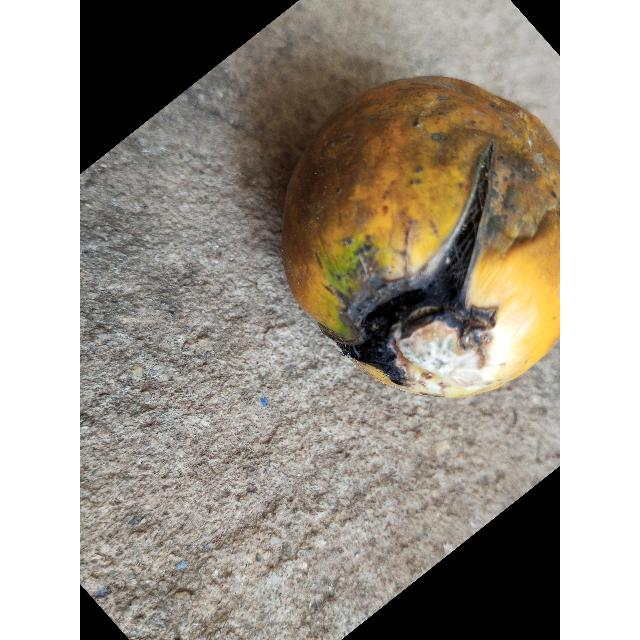damaged: (281, 76, 560, 401)
